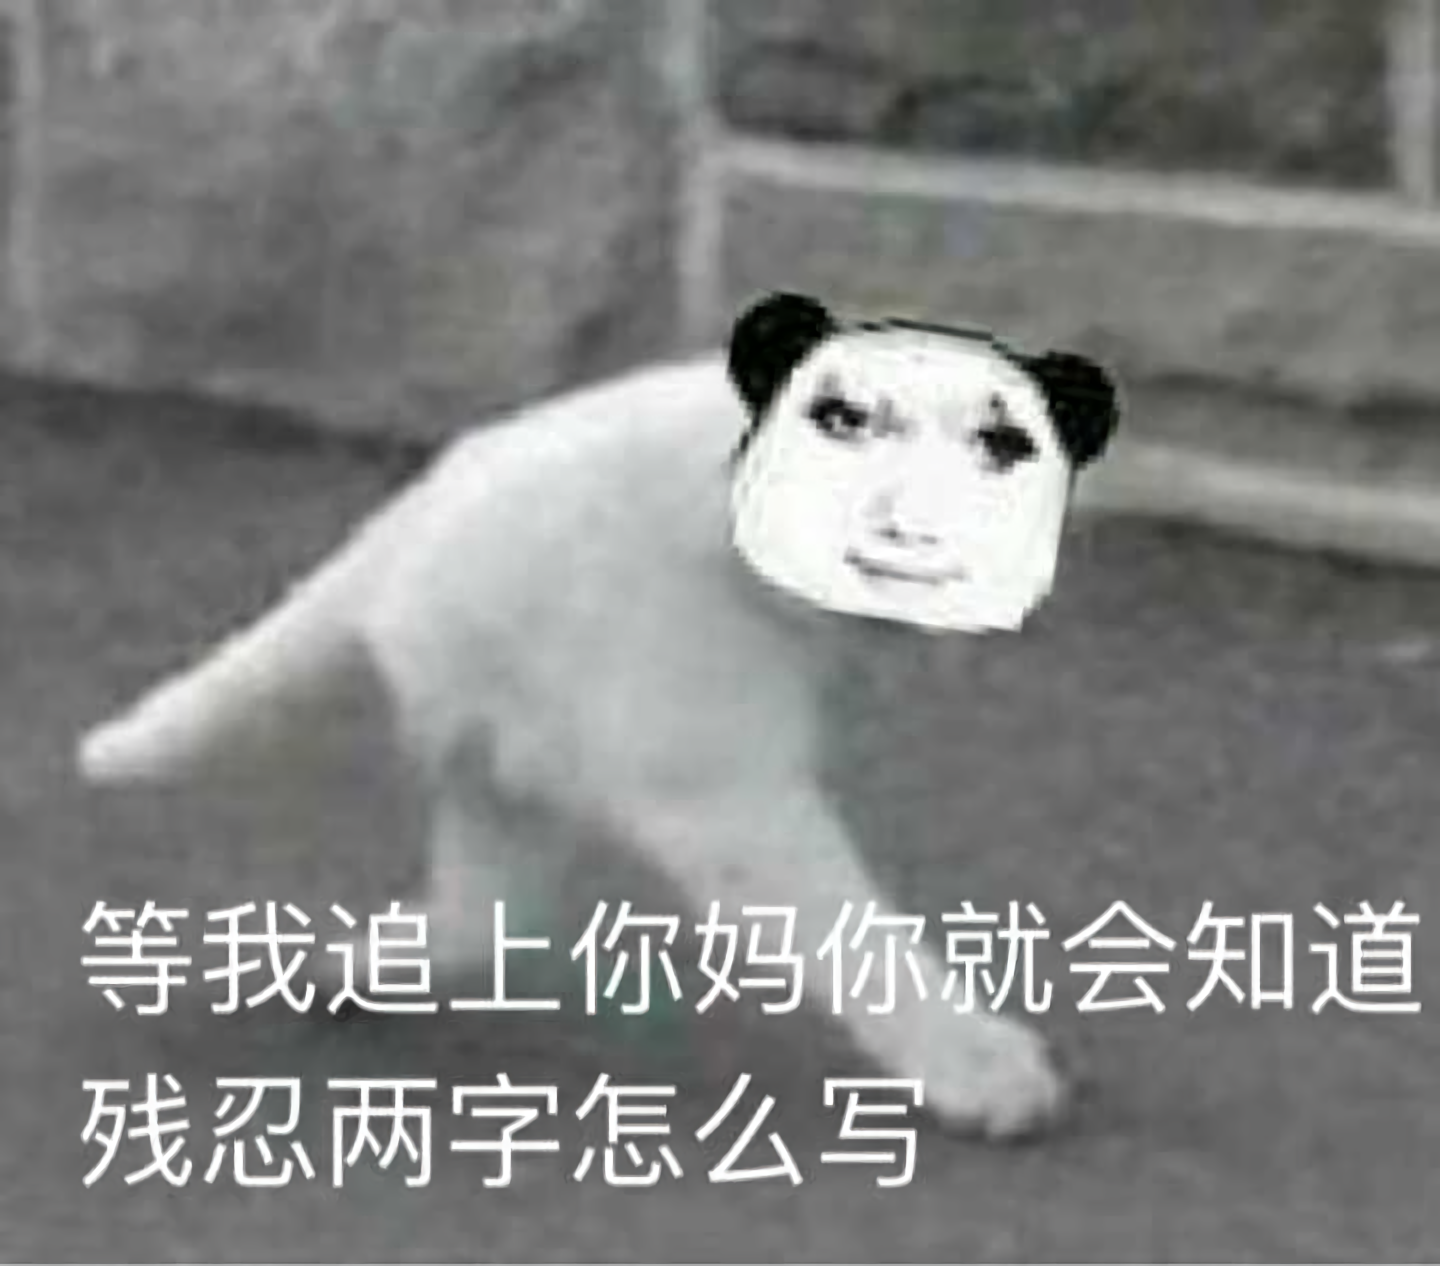dragon: (800, 377, 1041, 597)
